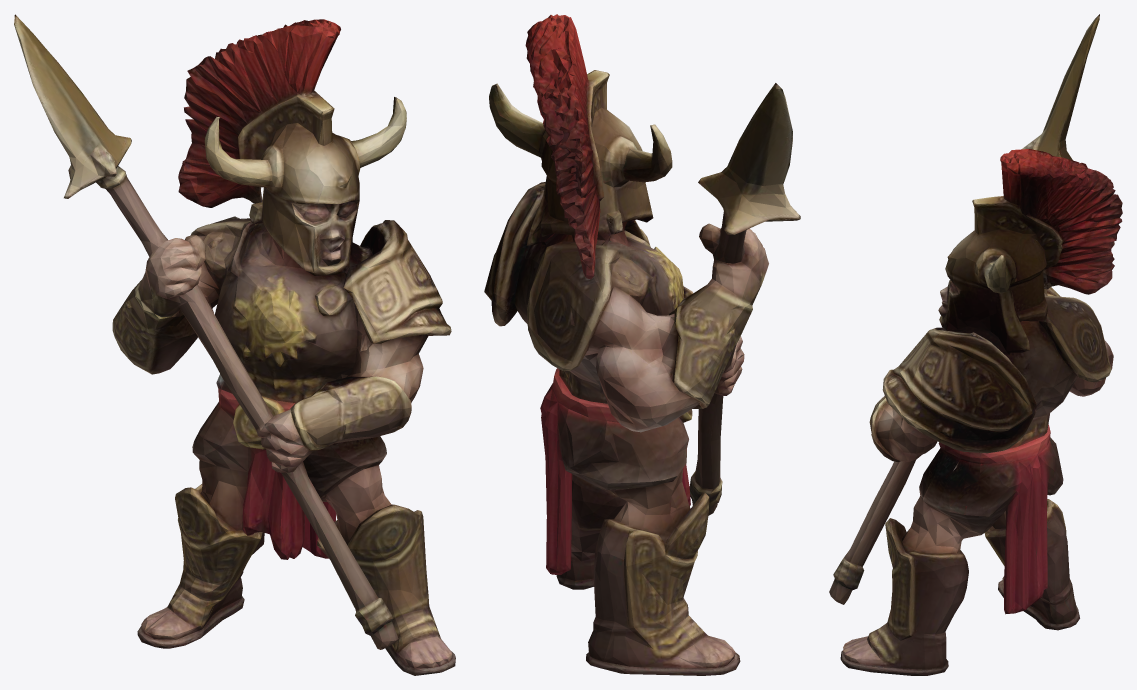
File: spearTwinA.glb
The picture shows the model from 3 angles, left to right: view 1: azimuth 30°, elevation 25°; view 2: azimuth 150°, elevation 25°; view 3: azimuth 270°, elevation 25°; orthographic projection. The views are drawn at different scales.
Parts seen in each view (by area): view 1: world; view 2: world; view 3: world.
Boxes of the visible parts, x1,y1,x2,y2 form: world: (14, 14, 455, 675); world: (484, 14, 800, 675); world: (829, 14, 1122, 675).
Bounding box in the file's own units: 0.5775 × 0.9967 × 0.497.
1 material, 1 textured.
